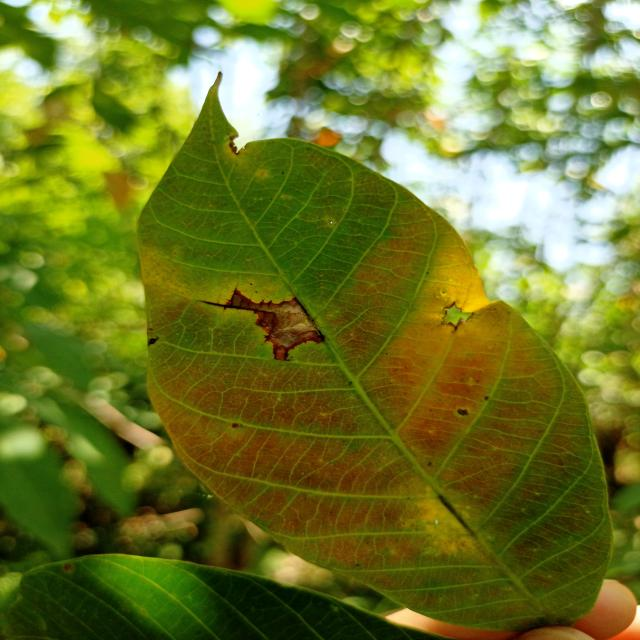Corynespora: (196, 286, 273, 314)
Leaf-Blight: (265, 298, 324, 346)
